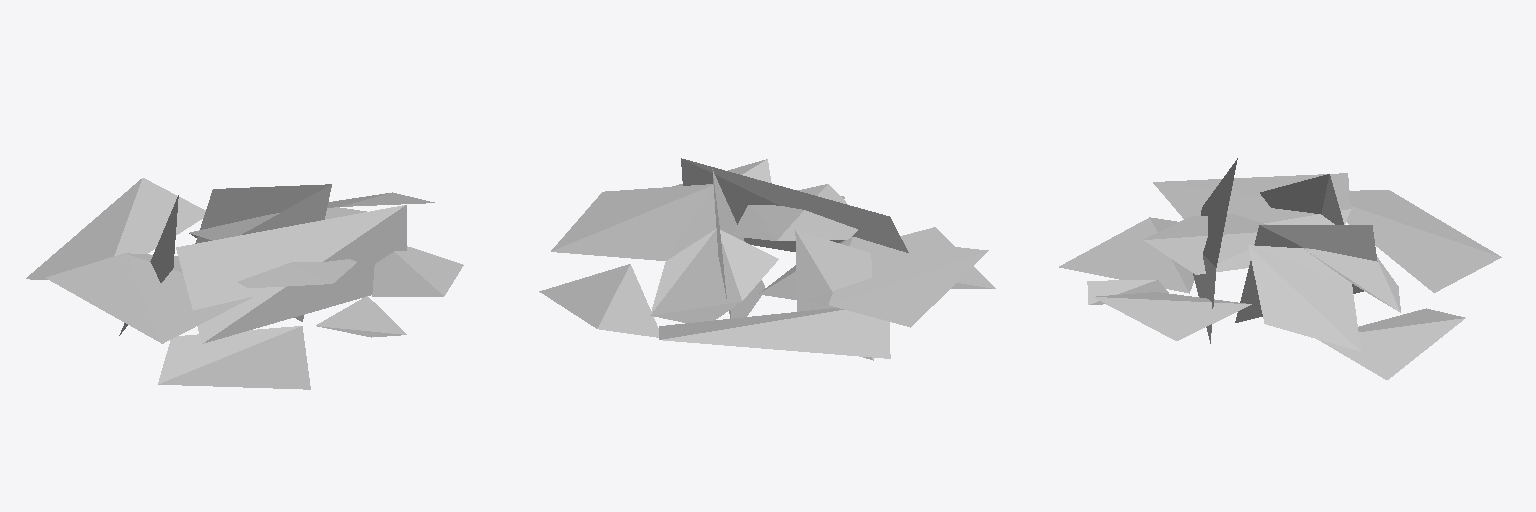
The model's file is forestgrass01.obj.
The picture shows the model from 3 angles: view 1: azimuth 30°, elevation 25°; view 2: azimuth 150°, elevation 25°; view 3: azimuth 270°, elevation 25°; orthographic projection.
Visible parts, largest first — view 1: ForestGrass01_0; view 2: ForestGrass01_0; view 3: ForestGrass01_0.
Boxes of the visible parts, <box> form: ForestGrass01_0: <box>26,178,463,389</box>; ForestGrass01_0: <box>539,158,995,360</box>; ForestGrass01_0: <box>1059,158,1501,379</box>.
Size of the model in its own units: 79.93 by 27.3 by 86.92.